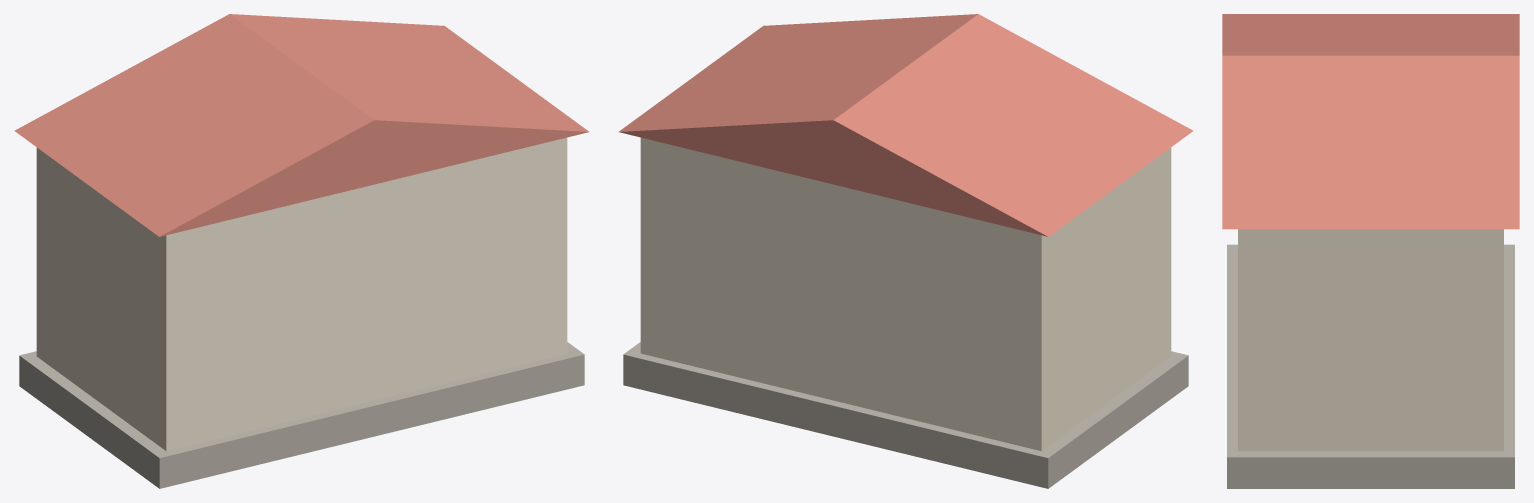
File: tin_cup_diner_far--1fLDBZG.glb
3 renders of one model, left to right at view 1: azimuth 30°, elevation 25°; view 2: azimuth 150°, elevation 25°; view 3: azimuth 270°, elevation 25°, orthographic. The views are drawn at different scales.
Parts seen in each view (by area): view 1: tin_cup_diner_far; view 2: tin_cup_diner_far; view 3: tin_cup_diner_far.
Part boxes in pixels (left/top/right/bottom): tin_cup_diner_far: left=14, top=14, right=588, bottom=488; tin_cup_diner_far: left=619, top=14, right=1193, bottom=488; tin_cup_diner_far: left=1222, top=14, right=1519, bottom=488.
Bounding box in the file's own units: 8.05 × 5.69 × 4.7.
